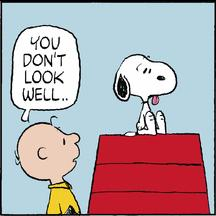charlie: (14, 114, 82, 214)
snoopy: (112, 52, 178, 136)
